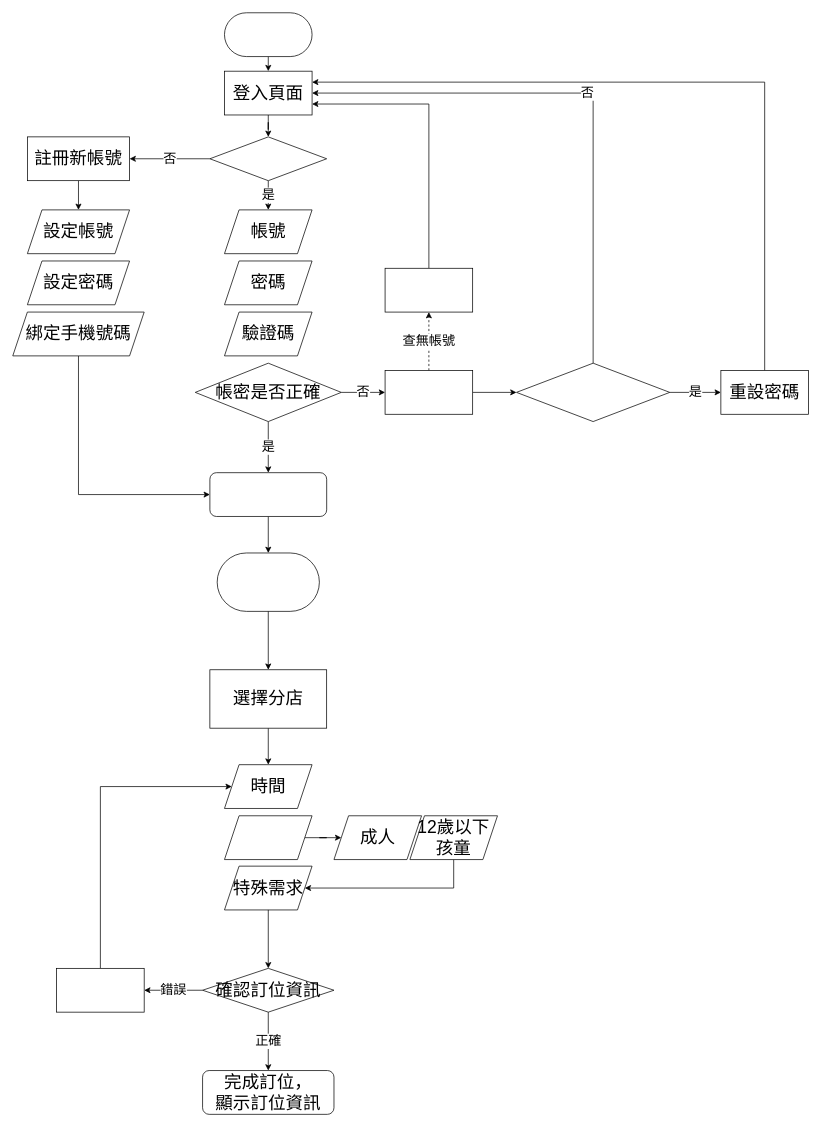
This 821x1127 diagram has some shape labels left out. The shapes that lost their labels are listed below. From the top down, each one's box as (x1, y1, x2, y2) in pixels, then its label:
(224, 12, 312, 57): 會員登入
(209, 136, 327, 181): 已有帳號？
(384, 268, 473, 312): 無此帳號
(384, 370, 473, 414): 密碼錯誤
(516, 362, 670, 422): 是否忘記密碼
(209, 472, 327, 516): 會員資訊頁
(216, 552, 319, 611): 我要訂位
(224, 815, 312, 860): 人數
(56, 968, 144, 1012): 修改
